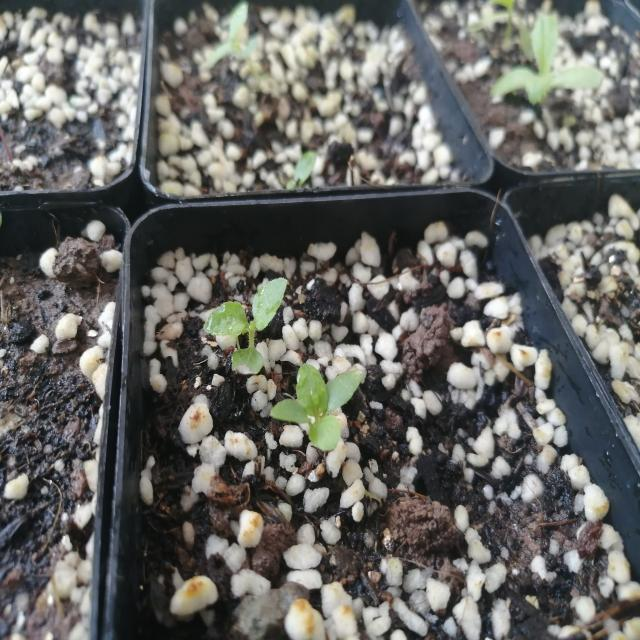billygoat_weed: (205, 256, 292, 390), (280, 356, 369, 479)
